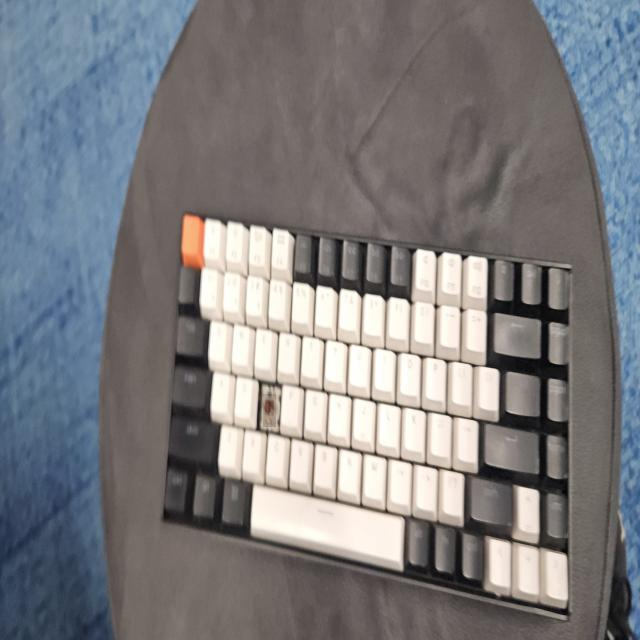C: (262, 388, 276, 426), (263, 394, 276, 427)
